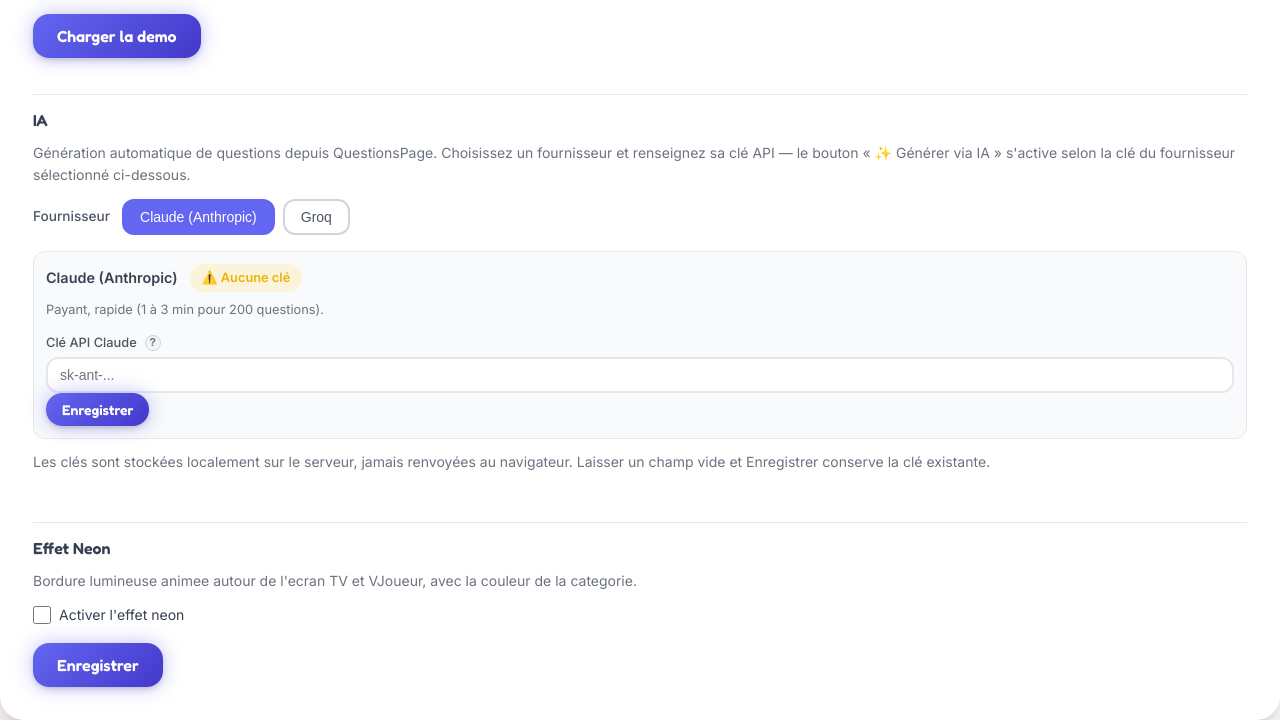
Test: ConfigPage — Section IA (#8) › shows an error toast when the key-validation endpoint rejects the format (400)
This screenshot has width=1280, height=720.
(page scrolled)
Expected: the heading "IA" is shown, [33, 110, 48, 130]
In the password field with placeholder "sk-ant-...": [640, 375] box [46, 357, 1234, 393], type "not-a-valid-key"
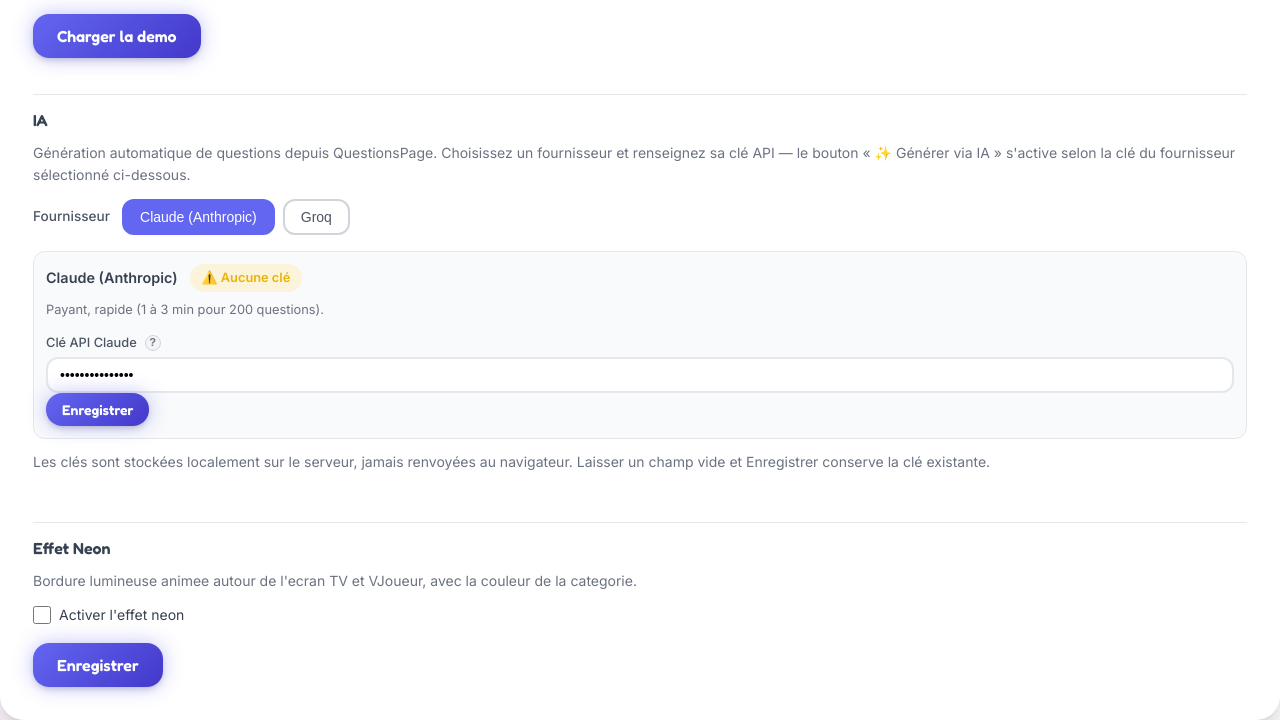
Click the button "Enregistrer" below "Clé API Claude": [98, 410] box [46, 393, 150, 426]
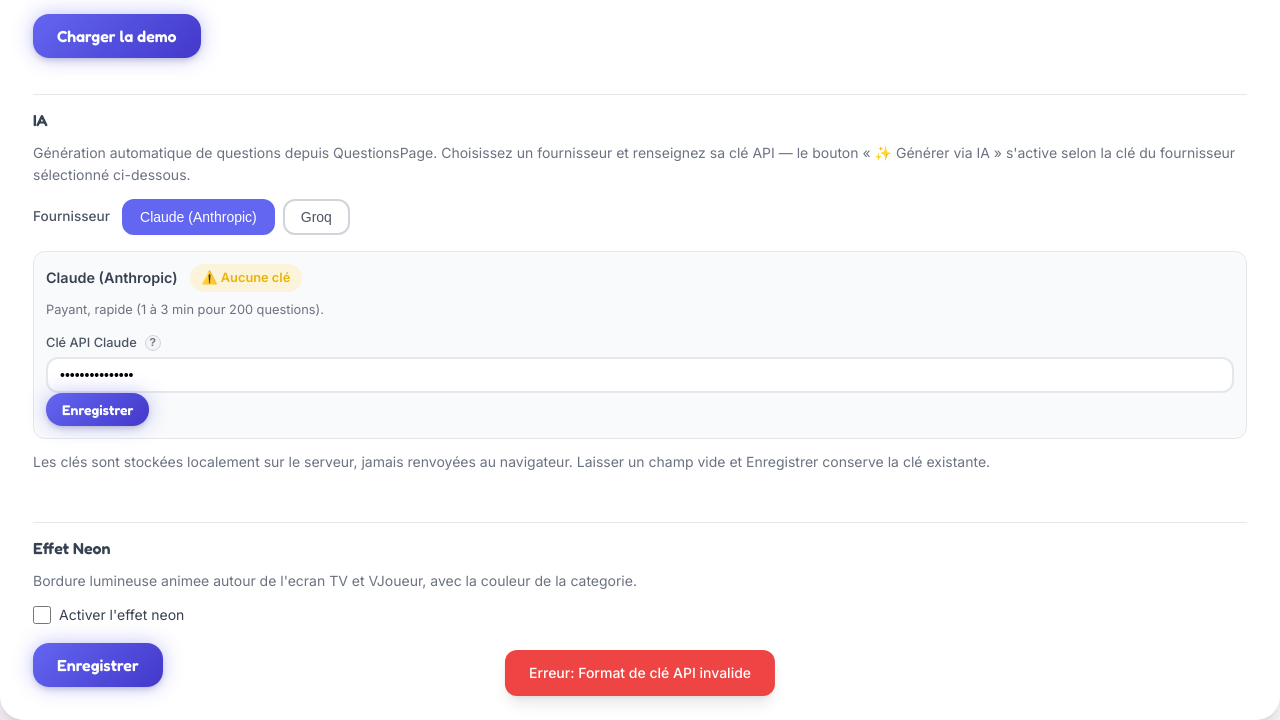
Result: the text "Erreur: Format de clé API invalide" is shown at [505, 650, 775, 696]
